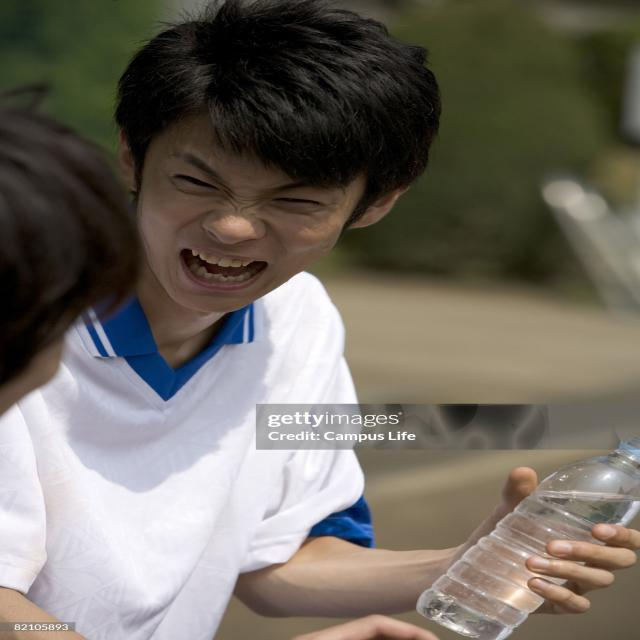bottle: (417, 440, 640, 638)
